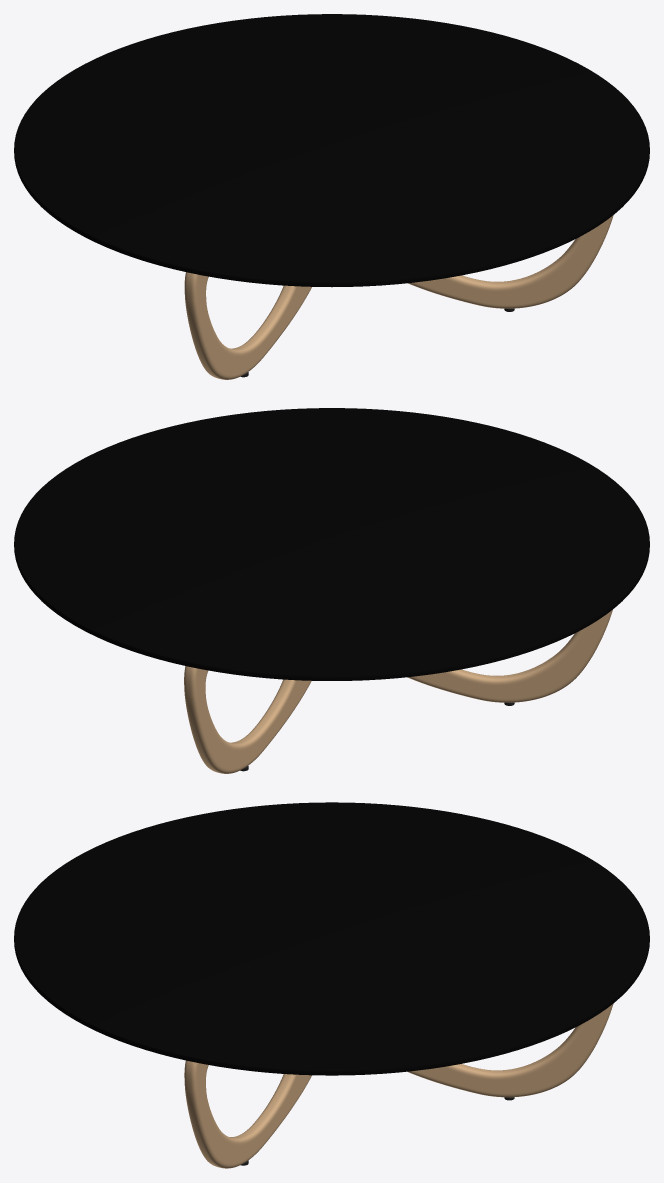
Rendered from mesa-de-centro-corvina.glb.
3 renders of one model, top to bottom at view 1: azimuth 30°, elevation 25°; view 2: azimuth 150°, elevation 25°; view 3: azimuth 270°, elevation 25°, orthographic.
Parts seen in each view (by area): view 1: object 4, Componente#1 (×2); view 2: object 4, Componente#1 (×2); view 3: object 4, Componente#1 (×2).
Part boxes in pixels (bbox=[...]): object 4: bbox=[14, 14, 649, 287]; Componente#1 (×2): bbox=[184, 215, 613, 379]; object 4: bbox=[14, 408, 649, 680]; Componente#1 (×2): bbox=[184, 609, 612, 773]; object 4: bbox=[14, 802, 649, 1075]; Componente#1 (×2): bbox=[184, 1003, 613, 1168].
Size of the model in its own units: 1.2 by 0.3372 by 1.2.
